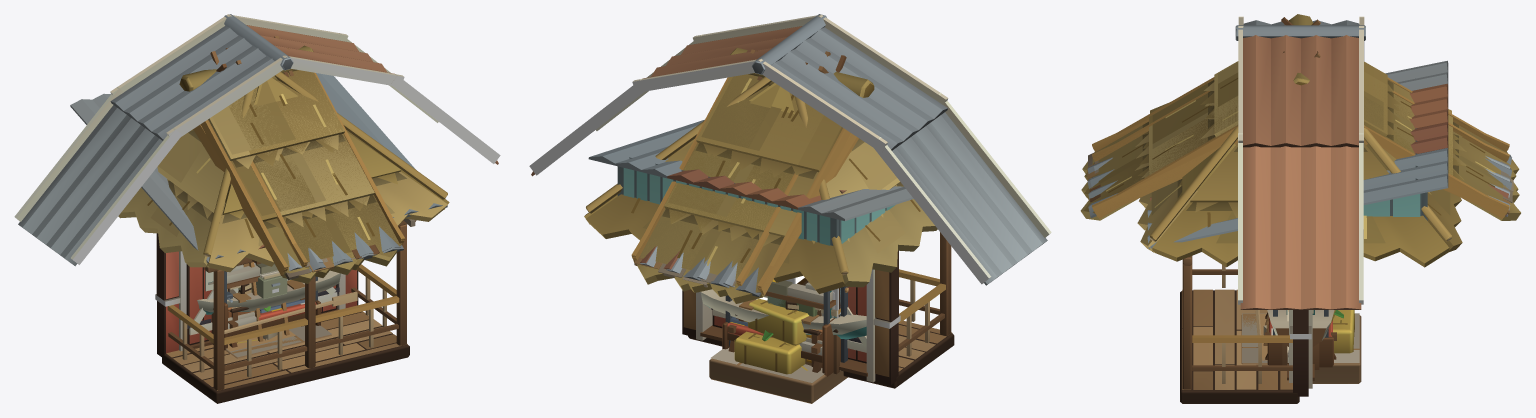
File: house.glb
3 renders of one model, left to right at view 1: azimuth 30°, elevation 25°; view 2: azimuth 150°, elevation 25°; view 3: azimuth 270°, elevation 25°, orthographic. The views are drawn at different scales.
Parts seen in each view (by area): view 1: roof_tin_gambrel__roof, roof_thatch__roof, porch__matte, roof_thatch_hip__roof, roof_thatch_end__roof, roof_tin_shed__roof, boat__matte, wall_barn_double__matte, wall_barn_double__door0, roof_tin_end__roof, roof_plank_end__roof, bunk__matte (+7 smaller); view 2: roof_tin_gambrel__roof, roof_thatch__roof, roof_thatch_end__roof, roof_thatch_hip__roof, roof_tin_shed__roof, porch__matte, wall_barn_double__matte, haystack__matte, floor_dirt__matte, boat__matte, bunk__matte, cot__matte (+7 smaller); view 3: roof_tin_gambrel__roof, roof_thatch_hip__roof, roof_thatch__roof, roof_thatch_end__roof, porch__matte, roof_tin_shed__roof, roof_plank__roof, roof_tin__roof, wall_barn_double__matte, roof_tin_end__roof, boat__matte, floor_dirt__matte (+5 smaller).
Part boxes in pixels (bbox=[...]): roof_tin_gambrel__roof: bbox=[14, 14, 500, 266]; roof_thatch__roof: bbox=[208, 35, 404, 277]; porch__matte: bbox=[162, 224, 409, 403]; roof_thatch_hip__roof: bbox=[118, 71, 449, 272]; roof_thatch_end__roof: bbox=[179, 36, 401, 283]; roof_tin_shed__roof: bbox=[70, 73, 447, 262]; boat__matte: bbox=[197, 270, 357, 347]; wall_barn_double__matte: bbox=[155, 251, 358, 356]; wall_barn_double__door0: bbox=[186, 264, 238, 345]; roof_tin_end__roof: bbox=[193, 126, 402, 274]; roof_plank_end__roof: bbox=[195, 124, 379, 280]; bunk__matte: bbox=[224, 263, 317, 320]; roof_tin_gambrel__roof: bbox=[529, 14, 1051, 285]; roof_thatch__roof: bbox=[632, 38, 846, 296]; roof_thatch_end__roof: bbox=[635, 47, 874, 303]; roof_thatch_hip__roof: bbox=[584, 76, 937, 293]; roof_tin_shed__roof: bbox=[588, 119, 913, 245]; porch__matte: bbox=[688, 232, 954, 388]; wall_barn_double__matte: bbox=[682, 269, 900, 384]; haystack__matte: bbox=[734, 298, 809, 374]; floor_dirt__matte: bbox=[709, 358, 847, 403]; boat__matte: bbox=[700, 289, 866, 372]; bunk__matte: bbox=[725, 279, 835, 346]; cot__matte: bbox=[722, 318, 840, 376]; roof_tin_gambrel__roof: bbox=[1235, 16, 1365, 309]; roof_thatch_hip__roof: bbox=[1137, 103, 1462, 267]; roof_thatch__roof: bbox=[1084, 24, 1520, 220]; roof_thatch_end__roof: bbox=[1080, 14, 1519, 220]; porch__matte: bbox=[1180, 264, 1299, 403]; roof_tin_shed__roof: bbox=[1147, 60, 1448, 248]; roof_plank__roof: bbox=[1089, 129, 1510, 217]; roof_tin__roof: bbox=[1087, 132, 1510, 218]; wall_barn_double__matte: bbox=[1287, 310, 1314, 396]; roof_tin_end__roof: bbox=[1090, 120, 1511, 216]; boat__matte: bbox=[1255, 310, 1336, 359]; floor_dirt__matte: bbox=[1241, 315, 1361, 383].
Bounding box in the file's own units: 8.83 × 6.09 × 7.3.
